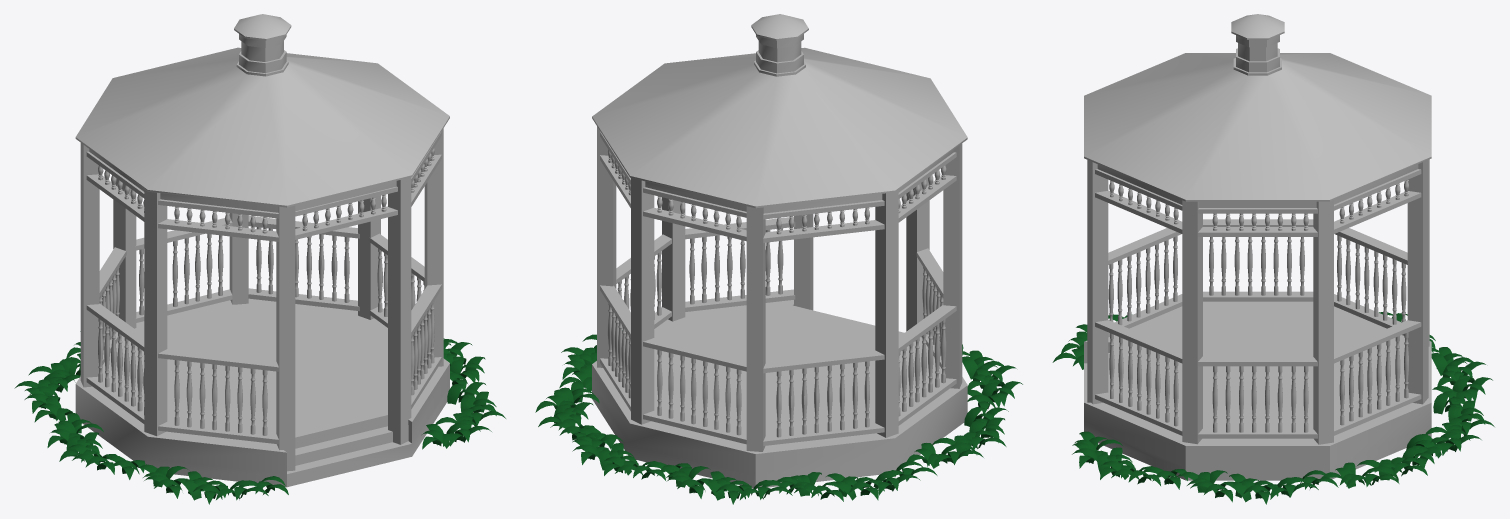
File: gazebo.glb
3 views of the same model, side by side, from view 1: azimuth 30°, elevation 25°; view 2: azimuth 150°, elevation 25°; view 3: azimuth 270°, elevation 25° (orthographic).
Parts seen in each view (by area): view 1: Mesh_7, Mesh_8, Mesh_4, Mesh_6, Mesh_0, Mesh_1, Mesh_5, Mesh_9, Mesh_10, Mesh_2, Mesh_11; view 2: Mesh_7, Mesh_8, Mesh_4, Mesh_6, Mesh_5, Mesh_1, Mesh_0, Mesh_9, Mesh_10, Mesh_2, Mesh_11; view 3: Mesh_7, Mesh_4, Mesh_8, Mesh_6, Mesh_1, Mesh_5, Mesh_0, Mesh_9, Mesh_10, Mesh_2, Mesh_11.
Part boxes in pixels (x1,y1,x2,y2): Mesh_7: [75, 14, 449, 207]; Mesh_8: [80, 128, 443, 471]; Mesh_4: [76, 298, 449, 473]; Mesh_6: [86, 131, 441, 444]; Mesh_0: [75, 363, 449, 487]; Mesh_1: [98, 227, 434, 435]; Mesh_5: [14, 331, 505, 504]; Mesh_9: [98, 148, 434, 233]; Mesh_10: [89, 149, 396, 212]; Mesh_2: [236, 34, 288, 76]; Mesh_11: [241, 41, 283, 61]; Mesh_7: [592, 14, 967, 208]; Mesh_8: [597, 126, 962, 451]; Mesh_4: [592, 300, 967, 453]; Mesh_6: [600, 131, 956, 445]; Mesh_5: [535, 330, 1022, 504]; Mesh_1: [607, 228, 946, 437]; Mesh_0: [592, 304, 967, 488]; Mesh_9: [607, 150, 946, 234]; Mesh_10: [645, 149, 953, 213]; Mesh_2: [754, 34, 805, 76]; Mesh_11: [758, 41, 801, 62]; Mesh_7: [1084, 14, 1431, 201]; Mesh_4: [1084, 301, 1431, 445]; Mesh_8: [1087, 159, 1429, 444]; Mesh_6: [1095, 169, 1421, 438]; Mesh_1: [1108, 235, 1408, 432]; Mesh_5: [1052, 312, 1494, 504]; Mesh_0: [1084, 341, 1431, 480]; Mesh_9: [1109, 179, 1408, 230]; Mesh_10: [1097, 164, 1418, 207]; Mesh_2: [1233, 35, 1281, 75]; Mesh_11: [1238, 43, 1277, 61].
Bounding box in the file's own units: 1.88 × 1.65 × 1.69.
